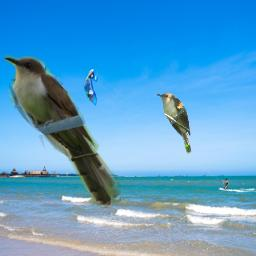Cuckoo: (2, 53, 121, 208), (154, 92, 193, 156)
